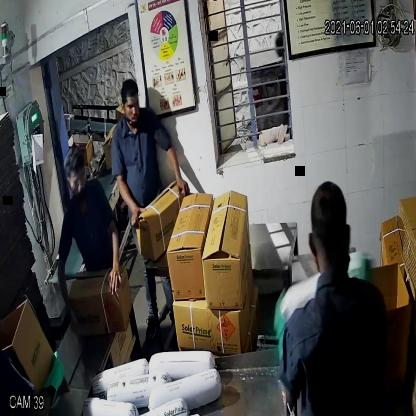goggles: (63, 162, 87, 192)
